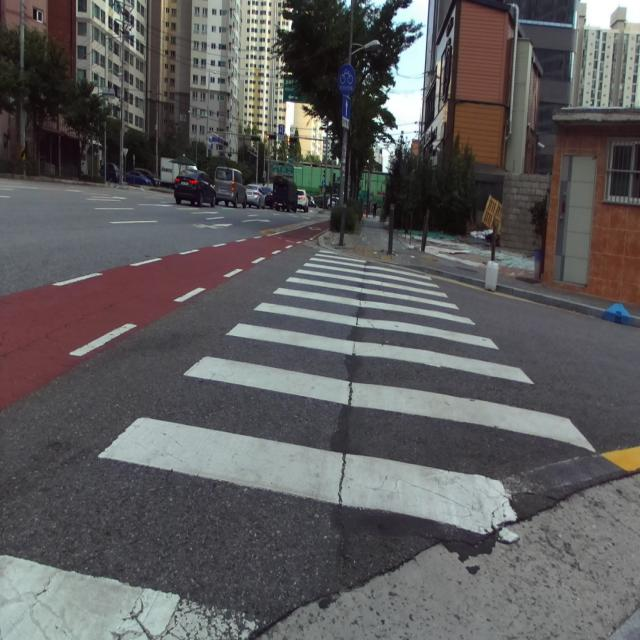횡단보도: (98, 249, 595, 544)
